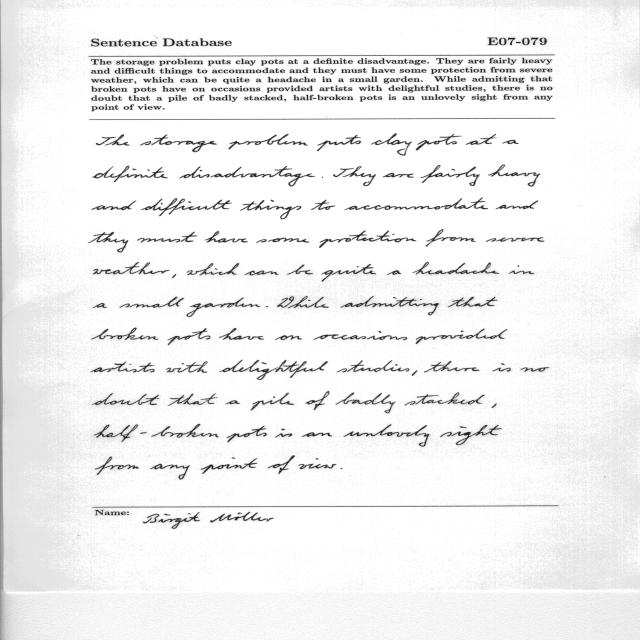word: (341, 297, 498, 316), (179, 166, 315, 186), (94, 424, 219, 442), (219, 360, 328, 380), (371, 134, 462, 156), (344, 424, 429, 447), (319, 230, 416, 248), (344, 198, 488, 210), (141, 198, 232, 216), (187, 297, 261, 317), (416, 329, 507, 344), (140, 135, 217, 152), (336, 393, 396, 414), (440, 425, 502, 445), (421, 165, 480, 186), (228, 134, 308, 149), (93, 166, 167, 182), (240, 200, 301, 219), (405, 392, 485, 406), (489, 165, 541, 186), (413, 262, 499, 274), (322, 264, 376, 282), (201, 457, 257, 474), (93, 262, 170, 274), (91, 327, 158, 340), (337, 361, 409, 373), (333, 166, 376, 186), (426, 230, 476, 247), (314, 331, 407, 340), (95, 456, 139, 475), (92, 393, 159, 405), (250, 393, 294, 411), (89, 232, 128, 252), (266, 297, 328, 309), (168, 328, 211, 345), (317, 135, 361, 151), (91, 362, 155, 373), (137, 232, 197, 243), (227, 426, 267, 442), (168, 393, 217, 406), (187, 263, 239, 275), (151, 464, 190, 480), (424, 361, 480, 372), (130, 297, 184, 308), (219, 328, 264, 340), (205, 231, 248, 243), (268, 455, 295, 474), (166, 361, 208, 373), (305, 391, 330, 410), (92, 201, 136, 211), (299, 458, 337, 469), (496, 201, 538, 210), (96, 135, 130, 146), (466, 134, 496, 145), (486, 237, 544, 242), (256, 238, 309, 243), (287, 265, 313, 275), (311, 200, 335, 210), (509, 266, 534, 275), (492, 363, 511, 372), (245, 271, 279, 276), (275, 429, 292, 438), (383, 173, 413, 178), (302, 432, 332, 437), (521, 367, 549, 372), (275, 335, 302, 340), (387, 270, 401, 275), (93, 303, 107, 308), (502, 140, 519, 144), (225, 401, 240, 405), (119, 303, 130, 308), (412, 370, 417, 376), (492, 403, 497, 408), (172, 274, 176, 278), (322, 177, 323, 178), (341, 468, 342, 469)
